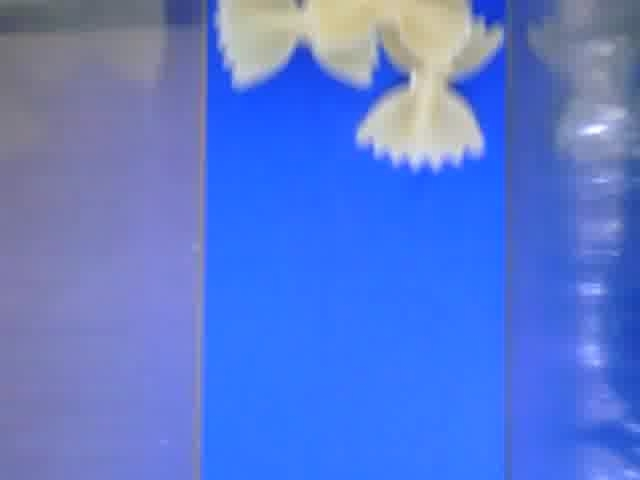farfalle: (356, 17, 502, 167), (213, 1, 376, 86)
